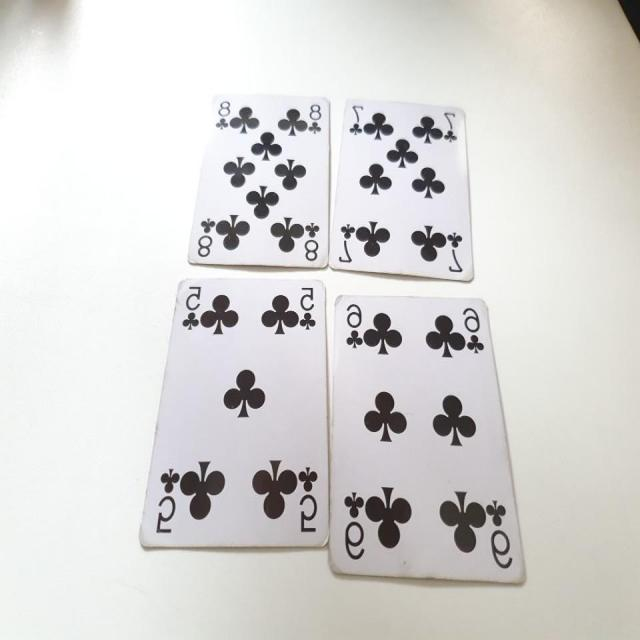5 of clubs: (138, 278, 332, 556)
6 of clubs: (328, 294, 528, 590)
7 of clubs: (328, 96, 475, 286)
8 of clubs: (186, 93, 332, 270)
